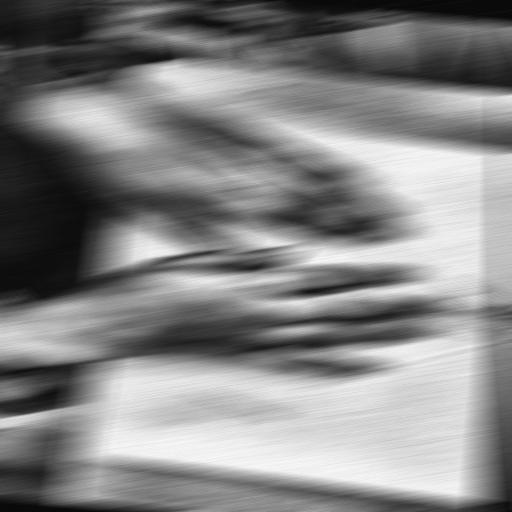boat: (164, 167, 512, 448)
bottom_left: (141, 114, 168, 121)
bottom_right: (70, 453, 99, 460)
